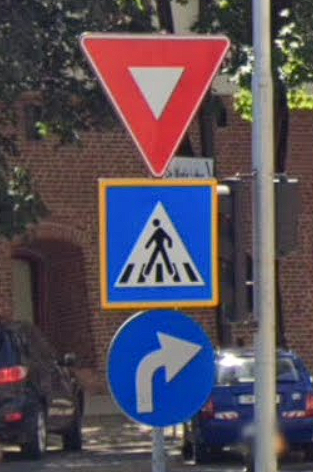cedeaza: (74, 28, 235, 182)
trecere_pietoni: (87, 175, 228, 313)
